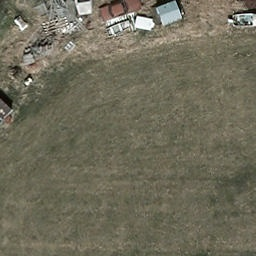car: (73, 0, 94, 16)
pickup: (98, 0, 145, 21)
